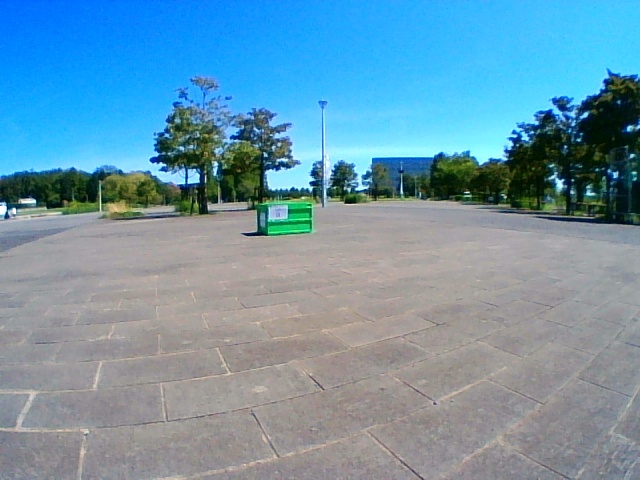green_box: (258, 201, 313, 234)
tag: (269, 206, 286, 219)
